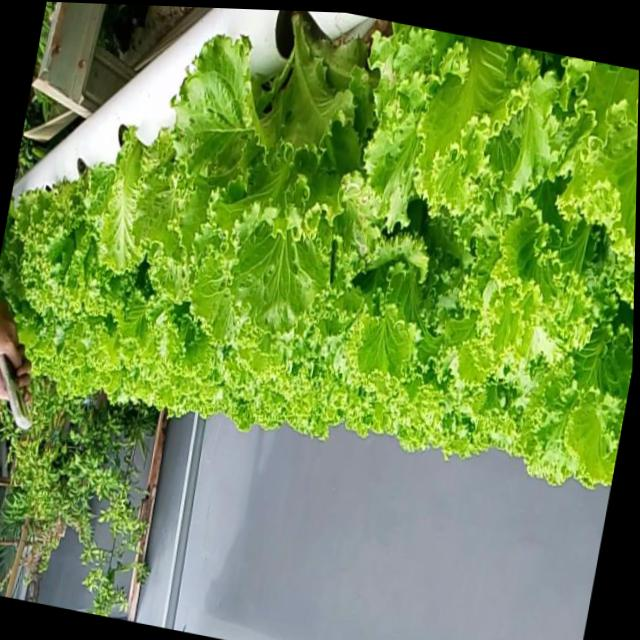Mature: (0, 12, 639, 491), (193, 27, 393, 323), (4, 147, 161, 354)
